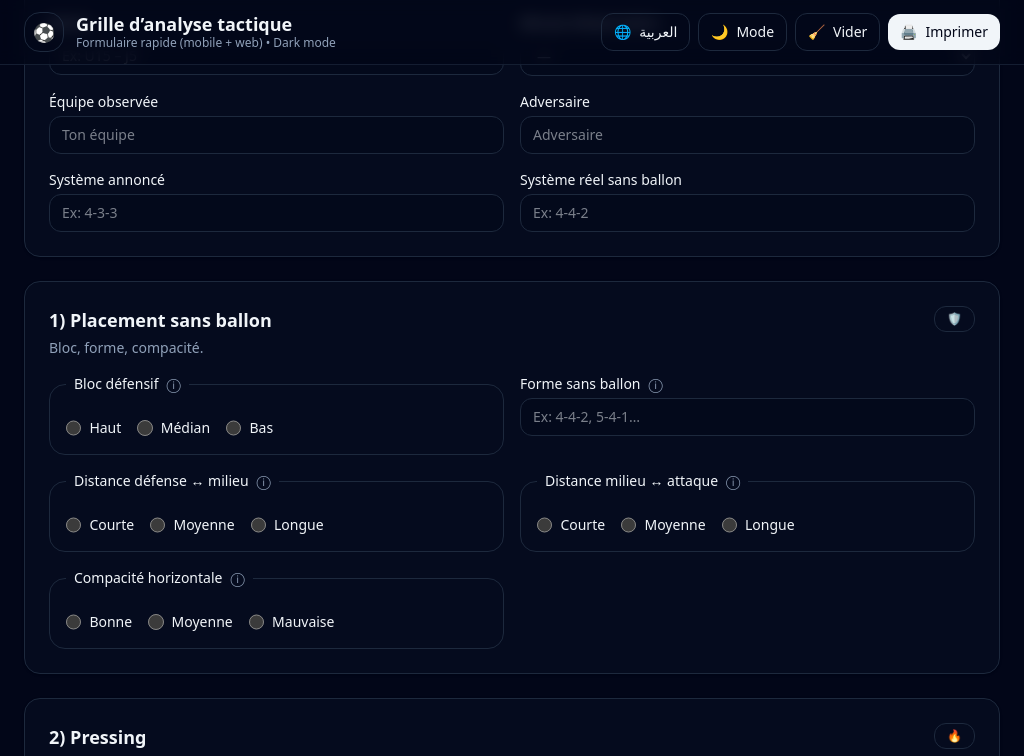
App › affiche l’aide pédagogique d’un champ dans la modale
(page scrolled)
Click the button named "Aide : Bloc défensif" at (174, 384), box [166, 374, 181, 394]
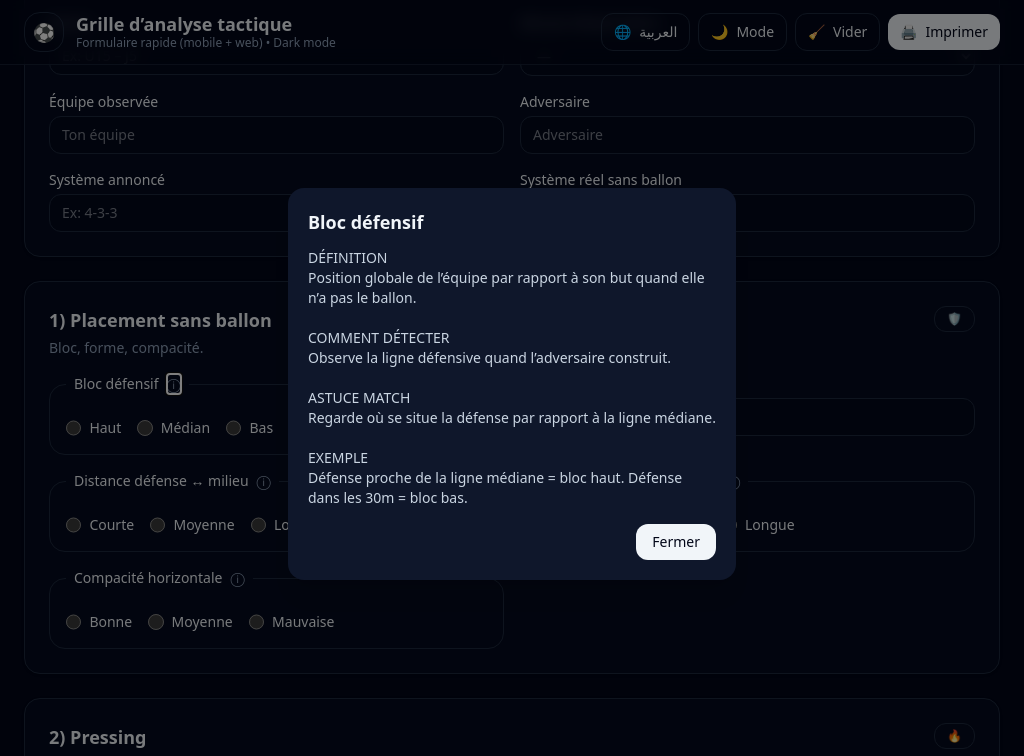
Now the dialog is shown, box [288, 188, 736, 580]
Now the dialog shows "DÉFINITION", box [308, 248, 716, 507]
Click the button "Fermer" at (676, 542), box [636, 524, 716, 560]
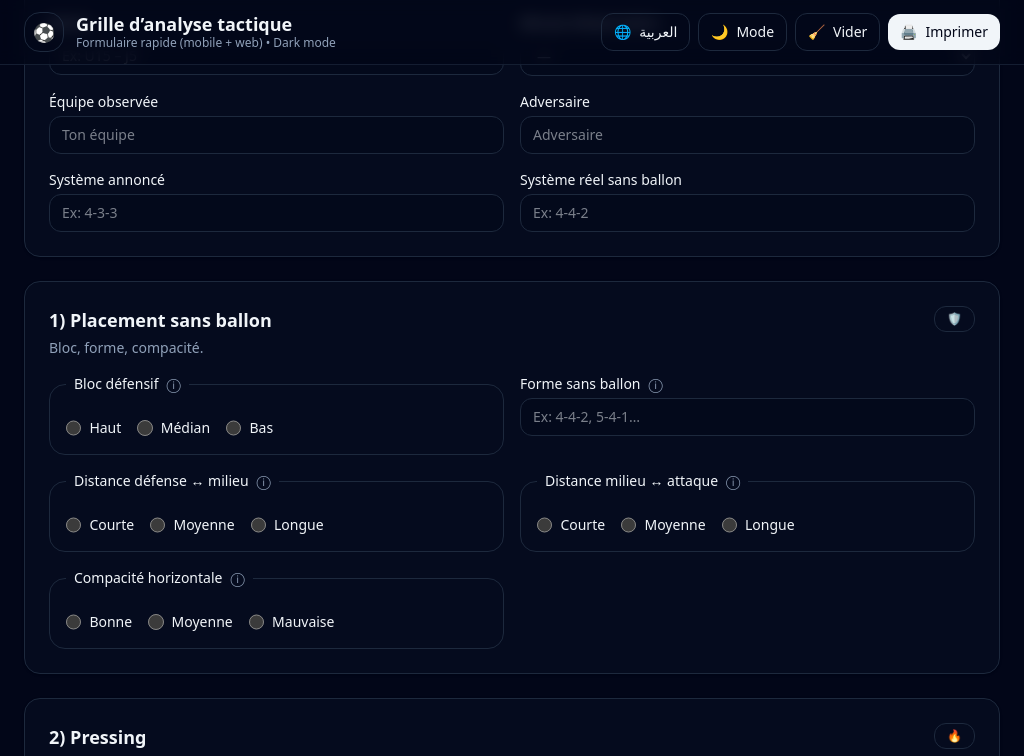
Now the dialog is gone
